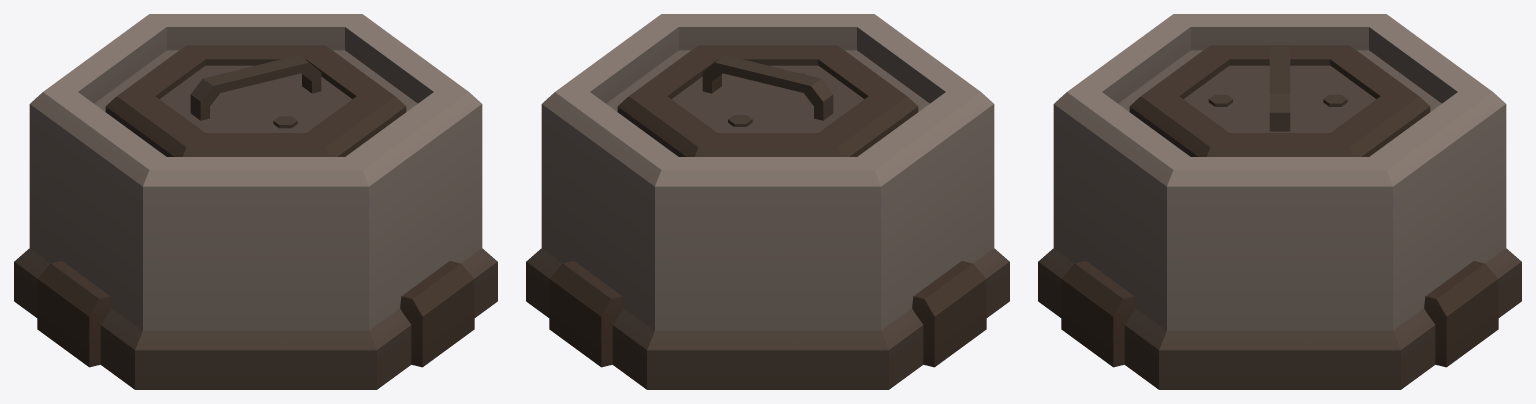
The model's file is Pillar 03.FBX.
The picture shows the model from 3 angles, left to right: view 1: azimuth 30°, elevation 25°; view 2: azimuth 150°, elevation 25°; view 3: azimuth 270°, elevation 25°; orthographic projection.
Parts seen in each view (by area): view 1: Pillar 03; view 2: Pillar 03; view 3: Pillar 03.
Part boxes in pixels (bbox=[...]): Pillar 03: bbox=[14, 14, 497, 389]; Pillar 03: bbox=[526, 14, 1009, 389]; Pillar 03: bbox=[1038, 14, 1521, 389].
Bounding box in the file's own units: 289 × 170 × 323.
1 material, 1 textured.
